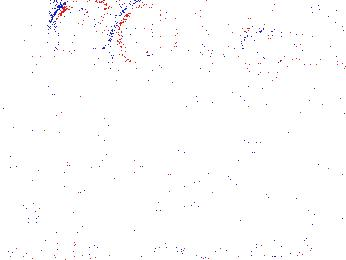moon jellyfish: (39, 53, 142, 113), (113, 1, 178, 75), (266, 6, 343, 68), (156, 9, 215, 89), (49, 1, 124, 58), (232, 25, 299, 76)
